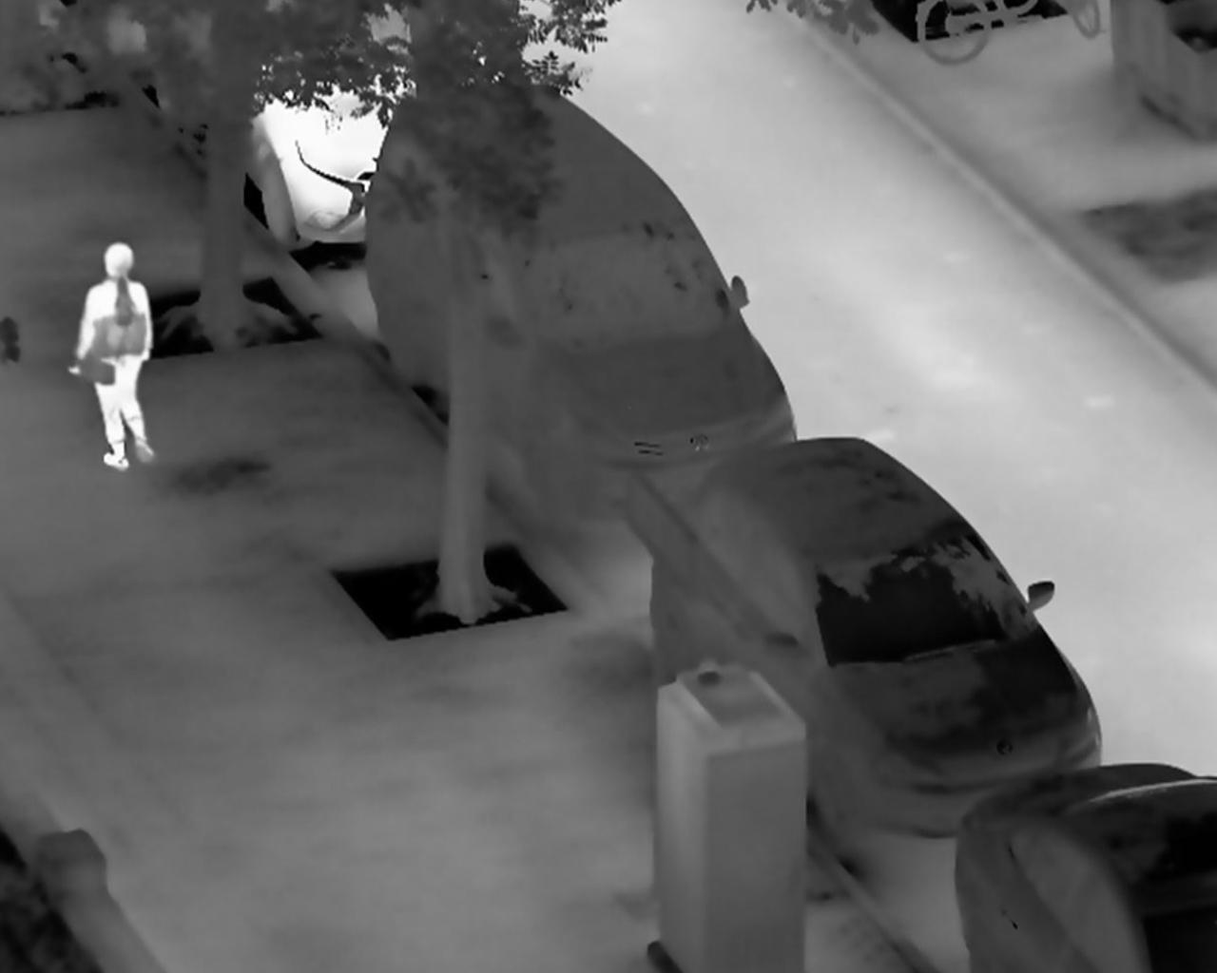person: (68, 238, 157, 472)
